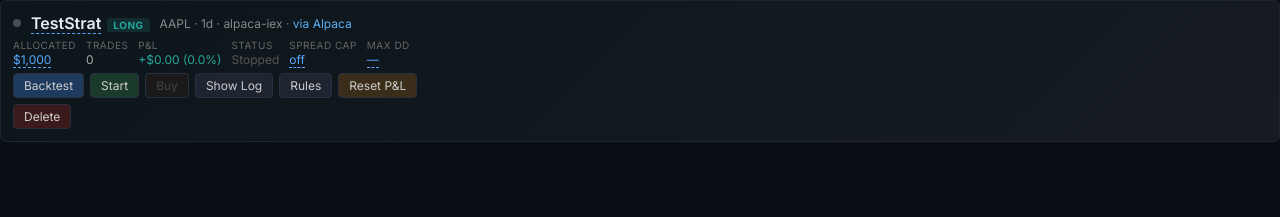
Test: BotCard Rules button (F454) › is on rule bots too
Click the button with test id "botcard-rules-btn" at point(306, 86), box top-left (279, 73), bottom-right (332, 98)
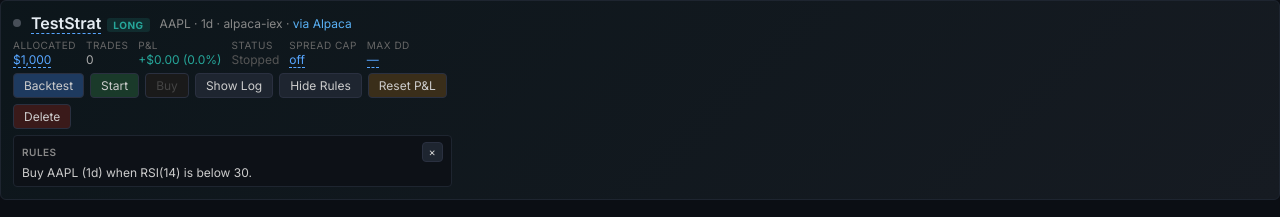
Expected: the text with test id "botcard-rules-line" reads "Buy AAPL (1d) when RSI(14) is below 30.", top-left (22, 165), bottom-right (252, 180)
